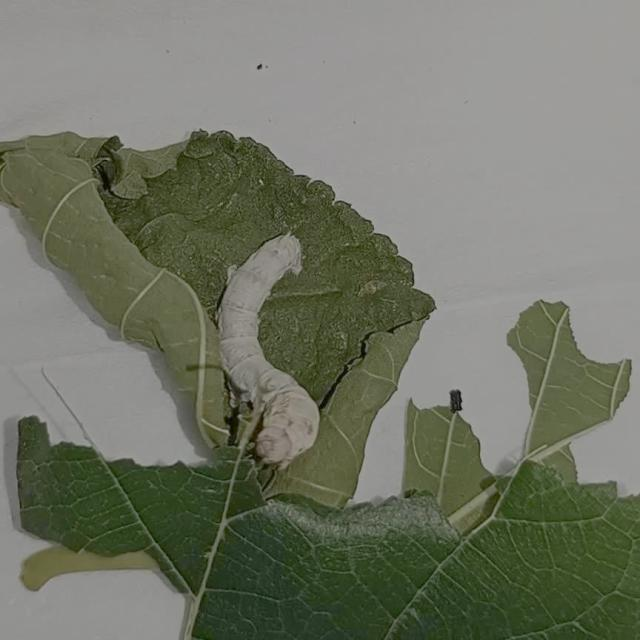Healthy: (198, 216, 342, 472)
